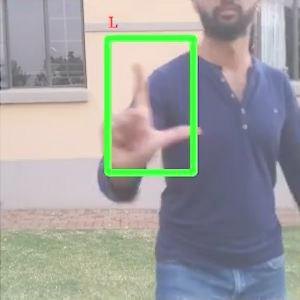land_hand: (98, 51, 204, 170)
